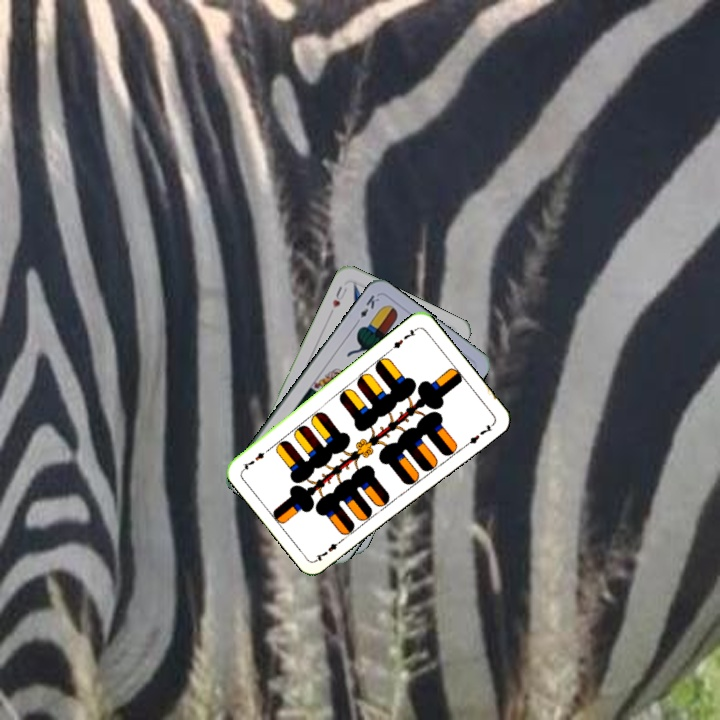E7: (312, 534, 347, 564), (386, 324, 420, 354)
EK: (351, 291, 382, 327)
HU: (329, 282, 350, 310)
